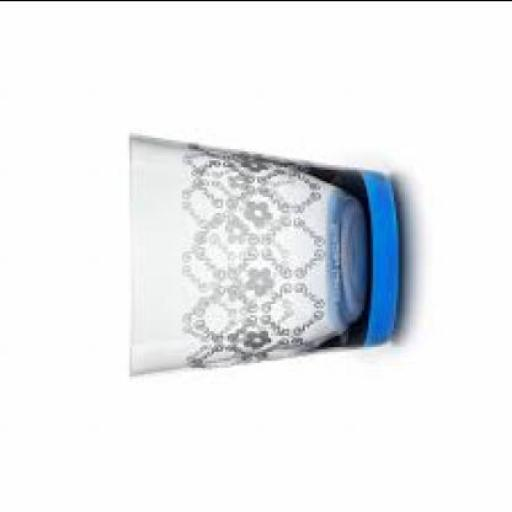glass: (128, 130, 398, 371)
